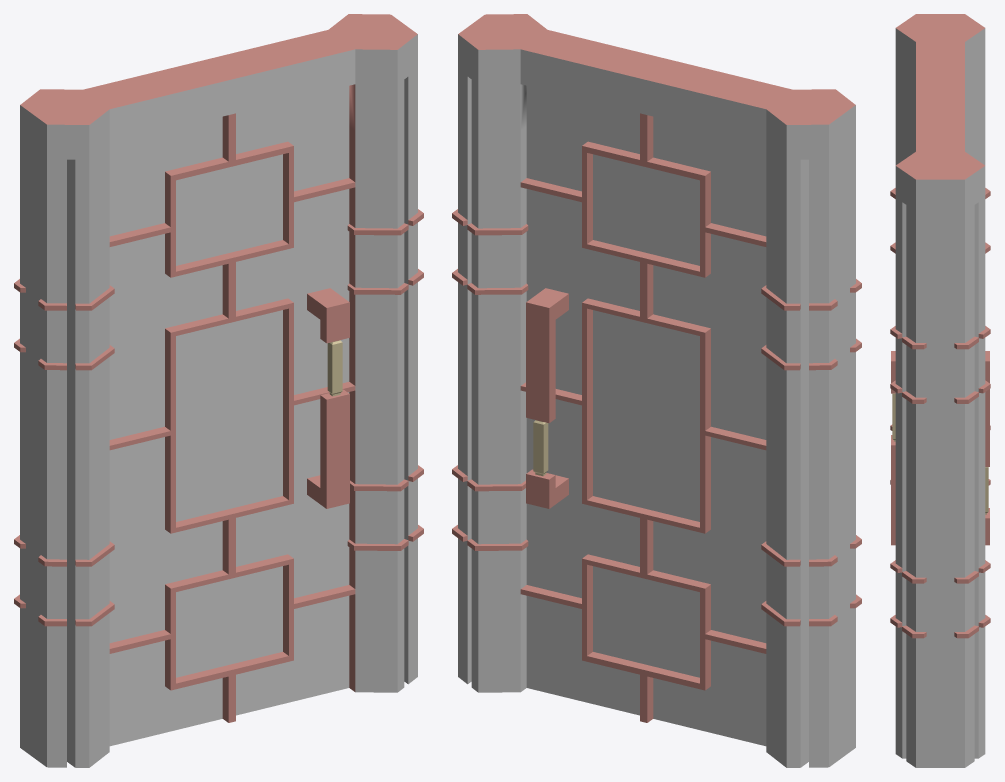
The model's file is porte_pivot.fbx.
3 renders of one model, left to right at view 1: azimuth 30°, elevation 25°; view 2: azimuth 150°, elevation 25°; view 3: azimuth 270°, elevation 25°, orthographic. The views are drawn at different scales.
Visible parts, largest first — view 1: porte_module.001, porte_module; view 2: porte_module.001, porte_module; view 3: porte_module, porte_module.001.
Boxes of the visible parts, x1,y1,x2,y2 form: porte_module.001: (109, 86, 355, 746); porte_module: (14, 14, 423, 767); porte_module.001: (520, 86, 766, 746); porte_module: (452, 14, 861, 767); porte_module: (890, 14, 990, 767); porte_module.001: (891, 351, 989, 545).
Bounding box in the file's own units: 0.1 × 0.162 × 0.025.
